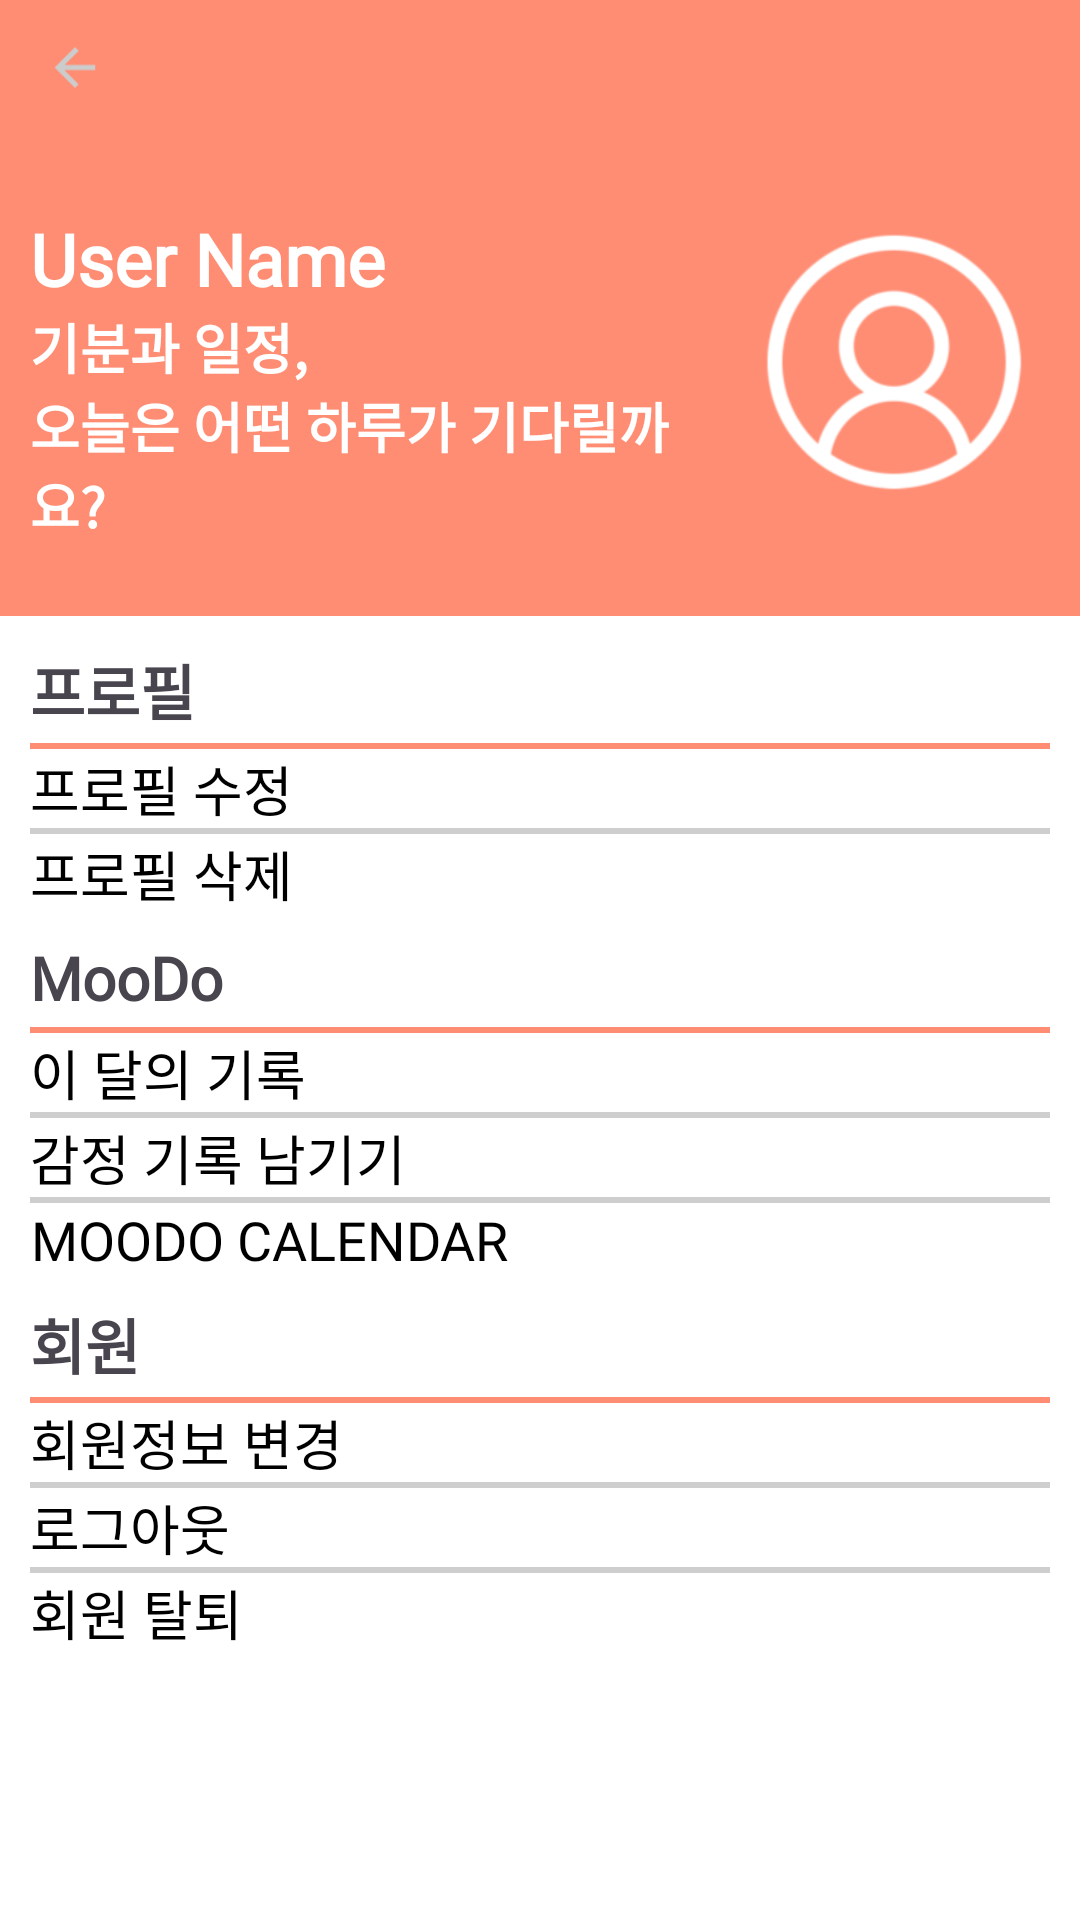

Icons on this 1080*1920 Android screen, each with its box as (x1, y1, x2, y2):
back: (55, 47, 95, 88)
profile: (767, 235, 1022, 490)
